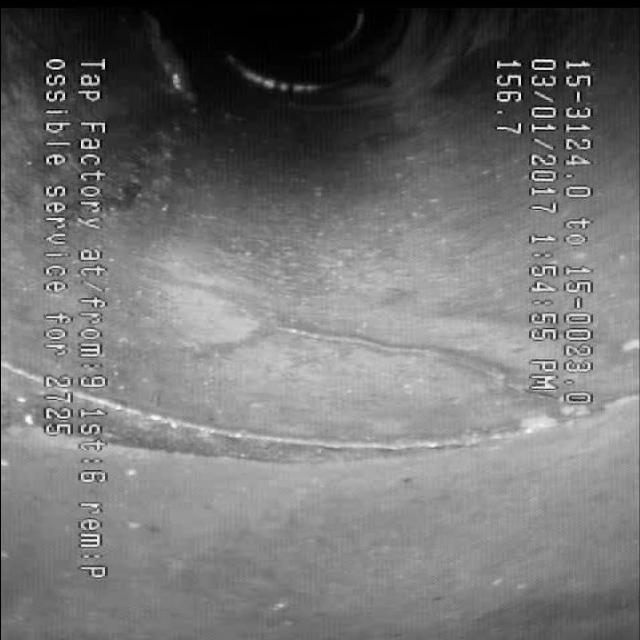Crack: (131, 245, 507, 404)
